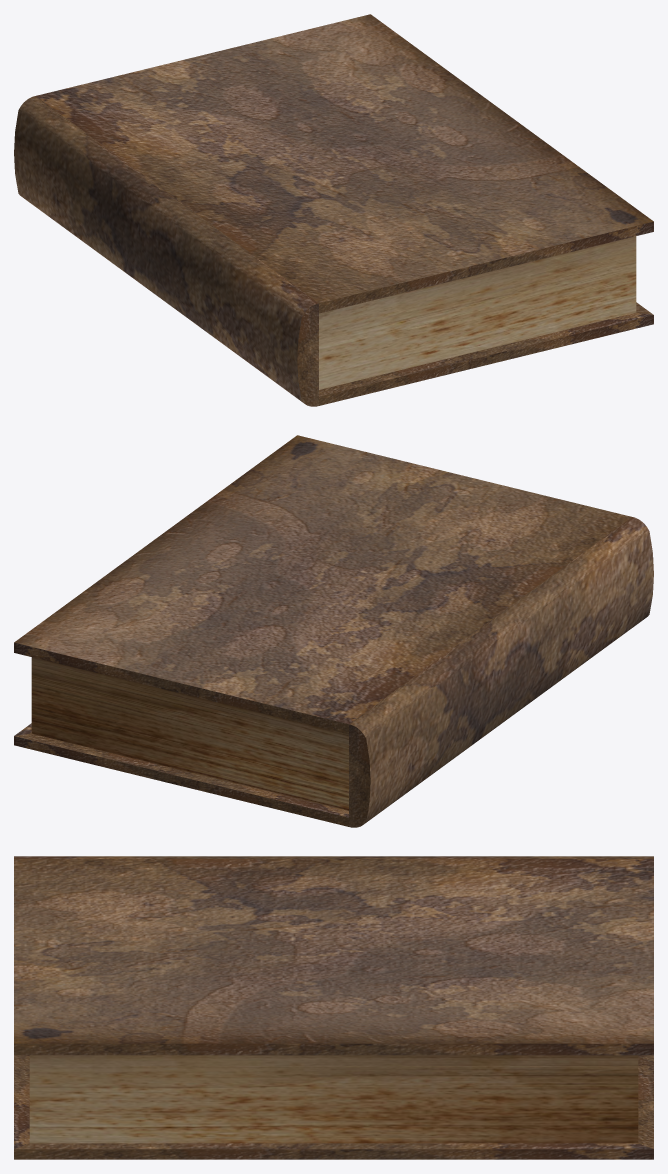
Rendered from book-03.fbx.
3 views of the same model, one above another, from view 1: azimuth 30°, elevation 25°; view 2: azimuth 150°, elevation 25°; view 3: azimuth 270°, elevation 25° (orthographic). The views are drawn at different scales.
Parts seen in each view (by area): view 1: Cube.002; view 2: Cube.002; view 3: Cube.002.
Boxes of the visible parts, x1,y1,x2,y2 form: Cube.002: (14,14,653,406); Cube.002: (14,435,653,827); Cube.002: (14,856,653,1159).
Size of the model in its own units: 0.3053 by 0.084 by 0.42.
